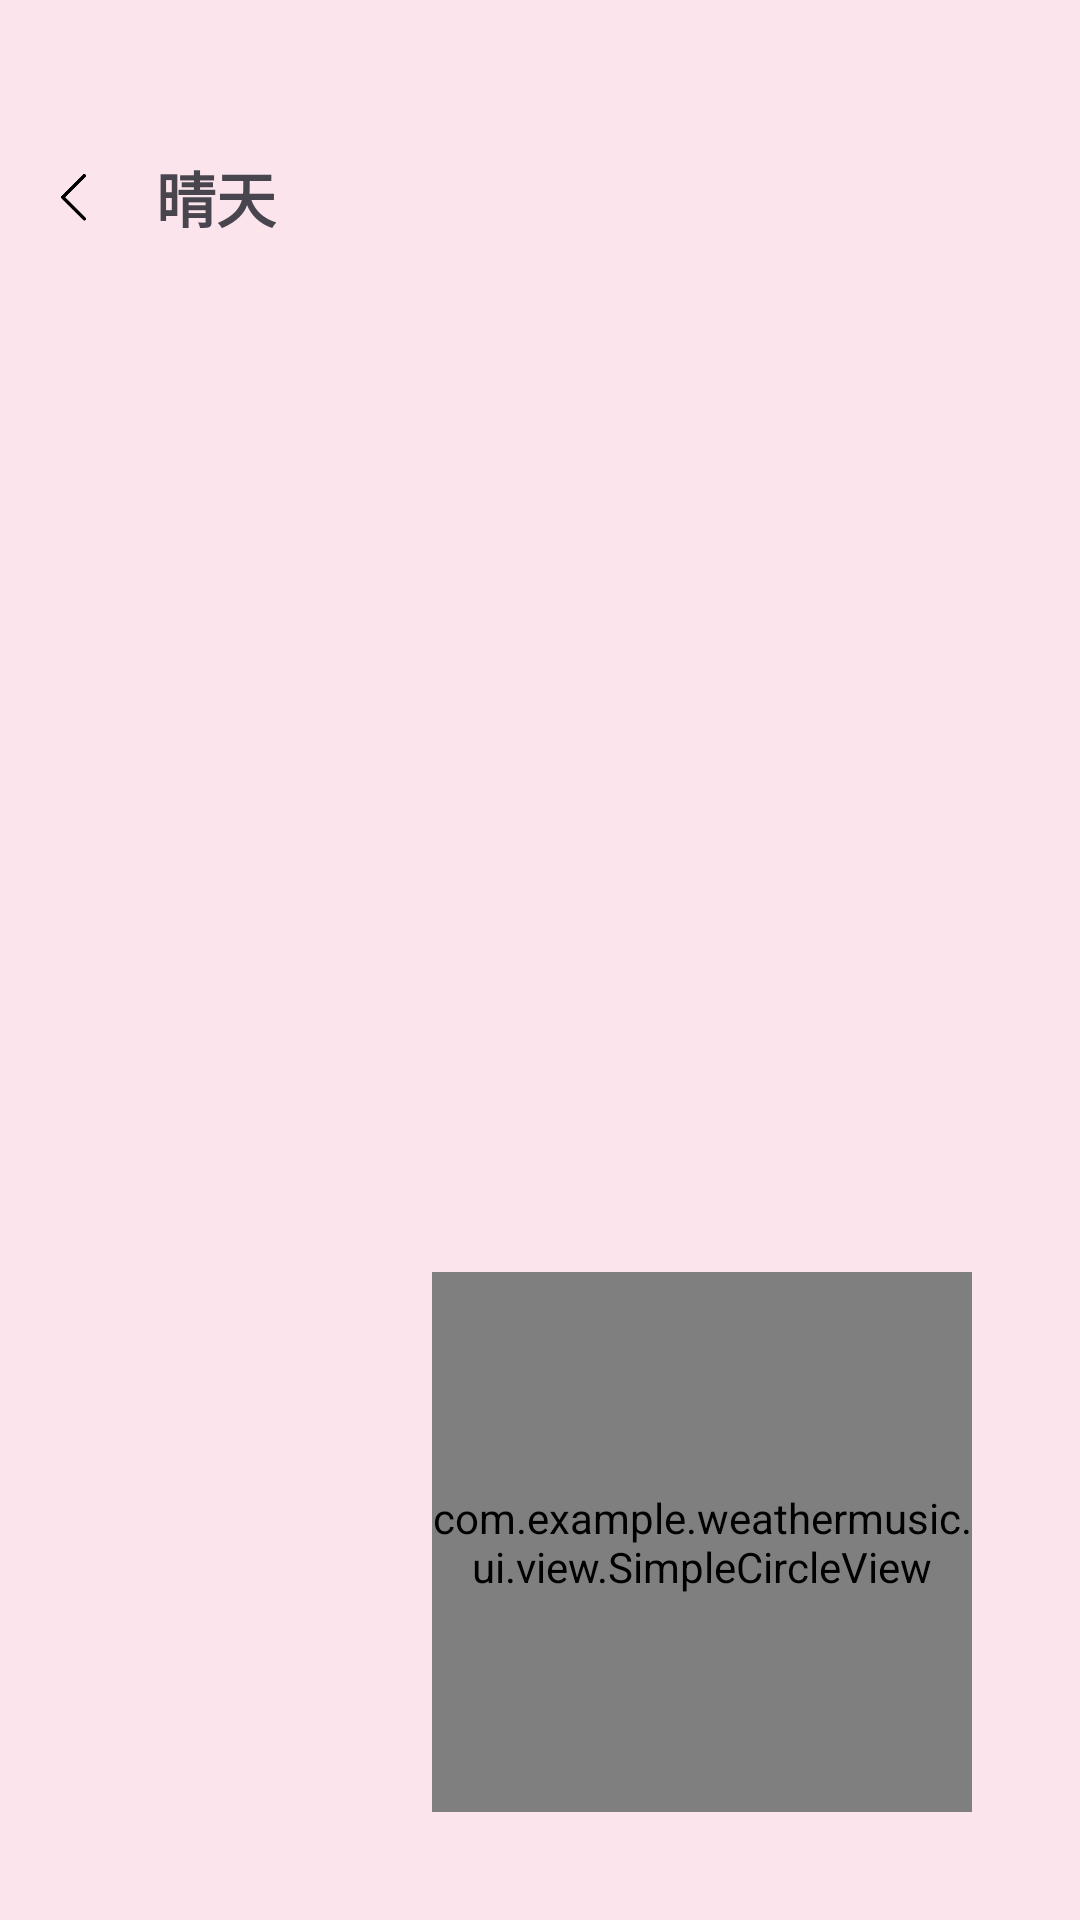

Where icons sit on this 1080 x 1920 app screen, as detection(x1, y1, x2, y2):
back: detection(61, 174, 86, 221)
